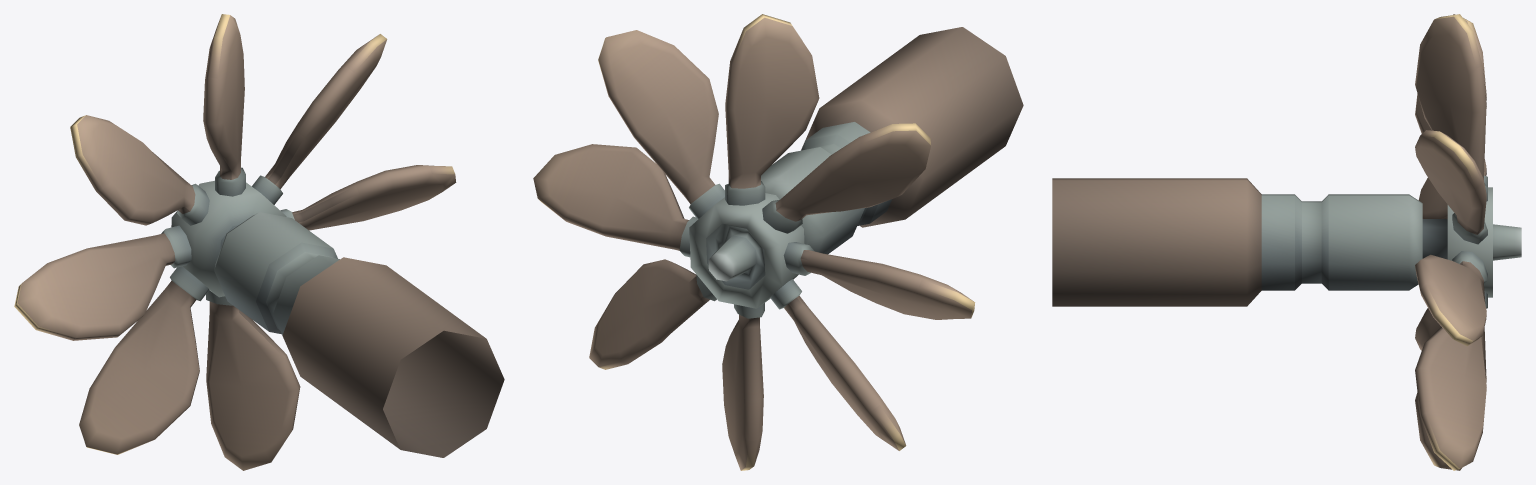
The model's file is propellerBottom.fbx.
The picture shows the model from 3 angles, left to right: view 1: azimuth 30°, elevation 25°; view 2: azimuth 150°, elevation 25°; view 3: azimuth 270°, elevation 25°; orthographic projection. The views are drawn at different scales.
Parts seen in each view (by area): view 1: propellerBottom; view 2: propellerBottom; view 3: propellerBottom.
Boxes of the visible parts, x1,y1,x2,y2 form: propellerBottom: (14,14,504,470); propellerBottom: (533,14,1023,470); propellerBottom: (1052,14,1521,470).
Size of the model in its own units: 384 by 384 by 367.
